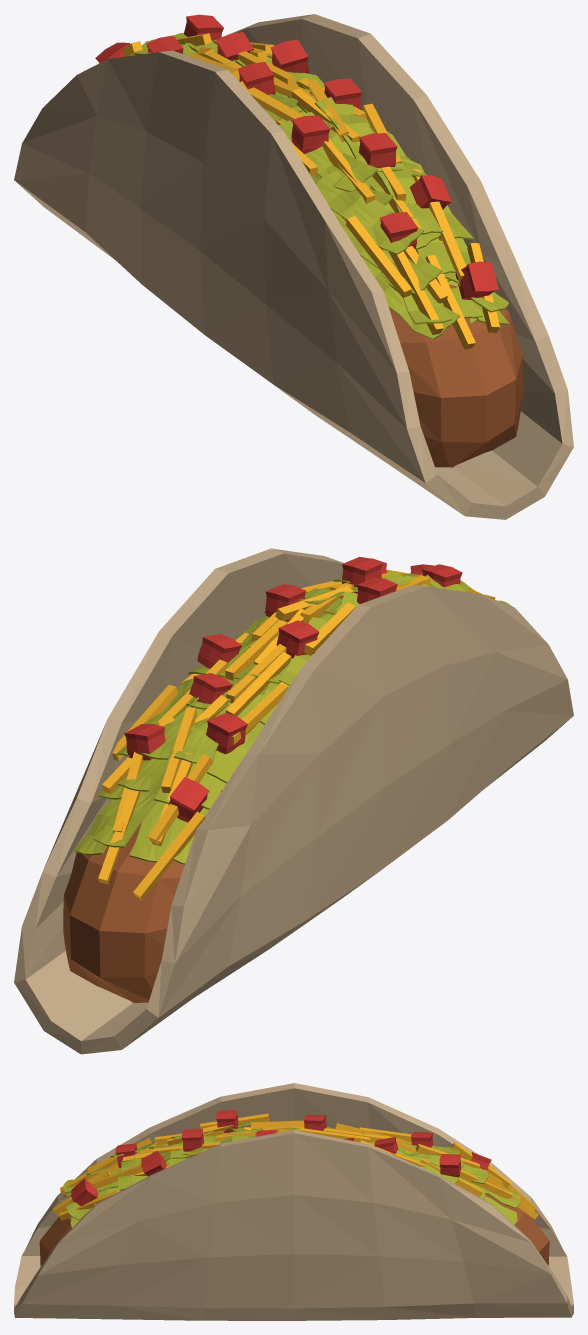
File: taco.glb
3 renders of one model, top to bottom at view 1: azimuth 30°, elevation 25°; view 2: azimuth 150°, elevation 25°; view 3: azimuth 270°, elevation 25°, orthographic. The views are drawn at different scales.
Parts seen in each view (by area): view 1: Node; view 2: Node; view 3: Node.
Boxes of the visible parts, <box> form: Node: <box>14,14,573,519</box>; Node: <box>14,548,573,1054</box>; Node: <box>14,1083,573,1320</box>.
Size of the model in its own units: 0.4296 by 0.69 by 1.7.
1 material, 1 textured.
